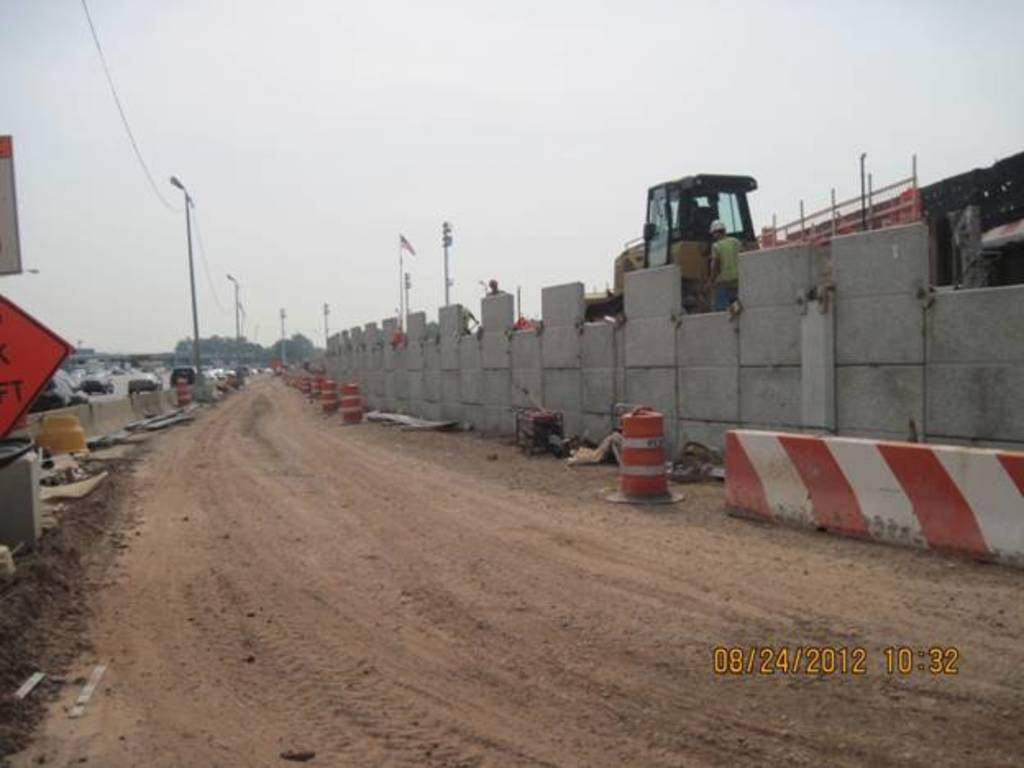Car: (32, 367, 93, 406), (82, 364, 116, 392), (128, 374, 162, 393), (198, 359, 216, 377), (221, 361, 234, 377)
